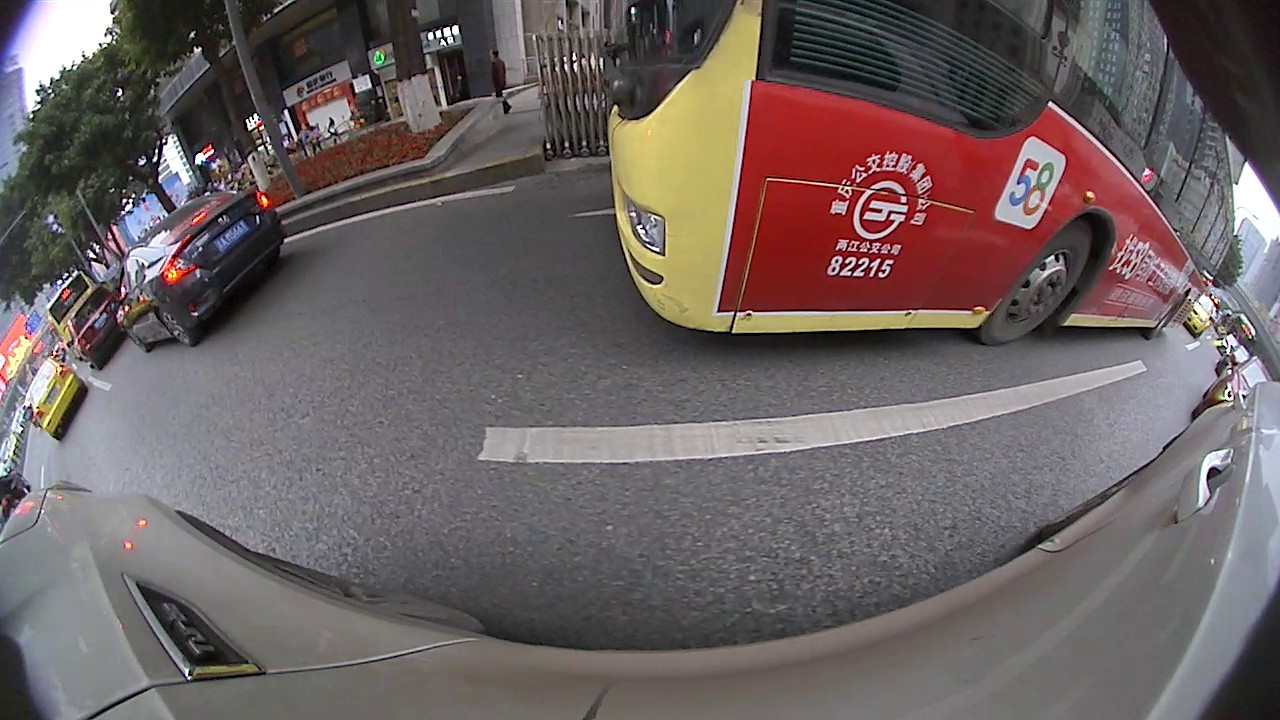bus: (596, 1, 1243, 351)
car: (111, 184, 290, 358), (18, 353, 90, 444), (66, 276, 131, 374)
front: (973, 219, 1098, 347), (119, 327, 150, 355)
rear: (1145, 287, 1192, 340), (154, 307, 209, 348)
